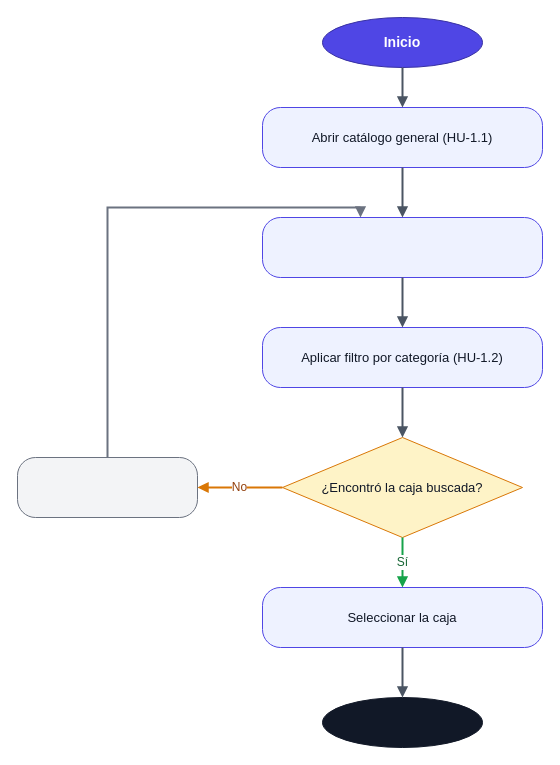
This 560x765 diagram has some shape labels left out. Here are the shapes that lost their labels. From the top down, the box of each, then its label:
(262, 216, 542, 278): Visualizar cajas disponibles con precio y temática
(16, 456, 198, 518): Explorar otra categoría
(322, 696, 482, 748): Fin (continúa en HU-1.3)
